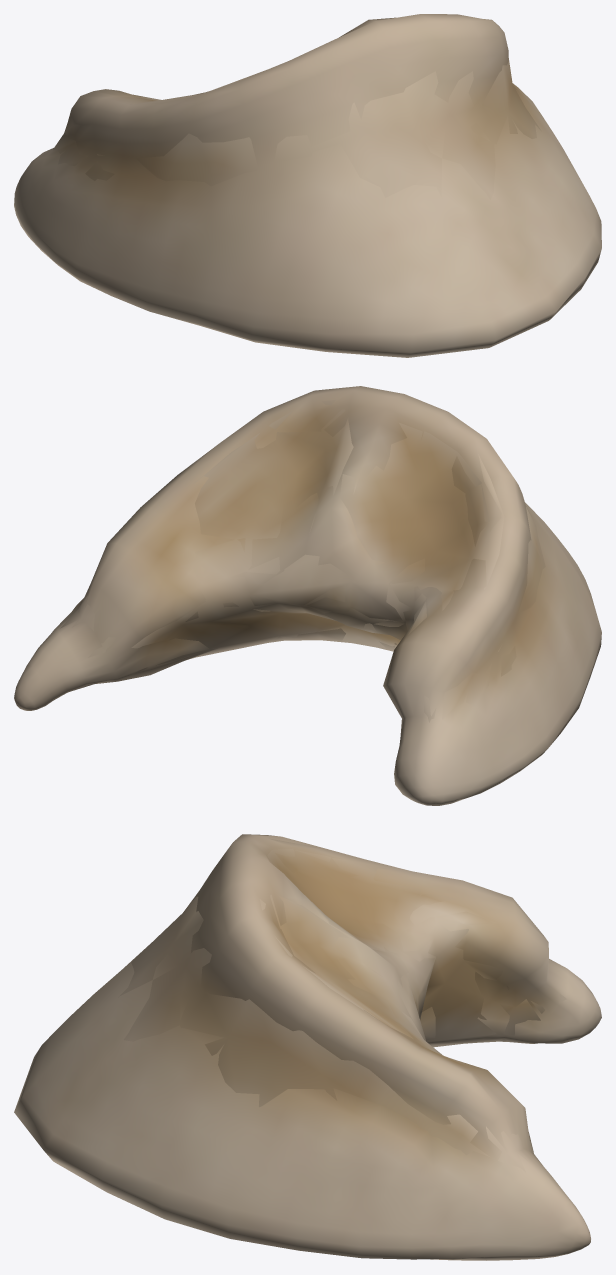
The model's file is FL 3rd Phalanx.fbx.
3 renders of one model, top to bottom at view 1: azimuth 30°, elevation 25°; view 2: azimuth 150°, elevation 25°; view 3: azimuth 270°, elevation 25°, orthographic. The views are drawn at different scales.
Visible parts, largest first — view 1: FL 3rd Phalanx, FL 3rd Phalanx low; view 2: FL 3rd Phalanx, FL 3rd Phalanx low; view 3: FL 3rd Phalanx, FL 3rd Phalanx low.
Part boxes in pixels (x1,y1,x2,y2): FL 3rd Phalanx: [14, 14, 601, 357]; FL 3rd Phalanx low: [53, 58, 541, 199]; FL 3rd Phalanx: [14, 386, 601, 805]; FL 3rd Phalanx low: [51, 399, 545, 744]; FL 3rd Phalanx: [14, 834, 601, 1260]; FL 3rd Phalanx low: [118, 838, 566, 1172].
Bounding box in the file's own units: 7.7 × 4.06 × 7.71.
1 material, 1 textured.
